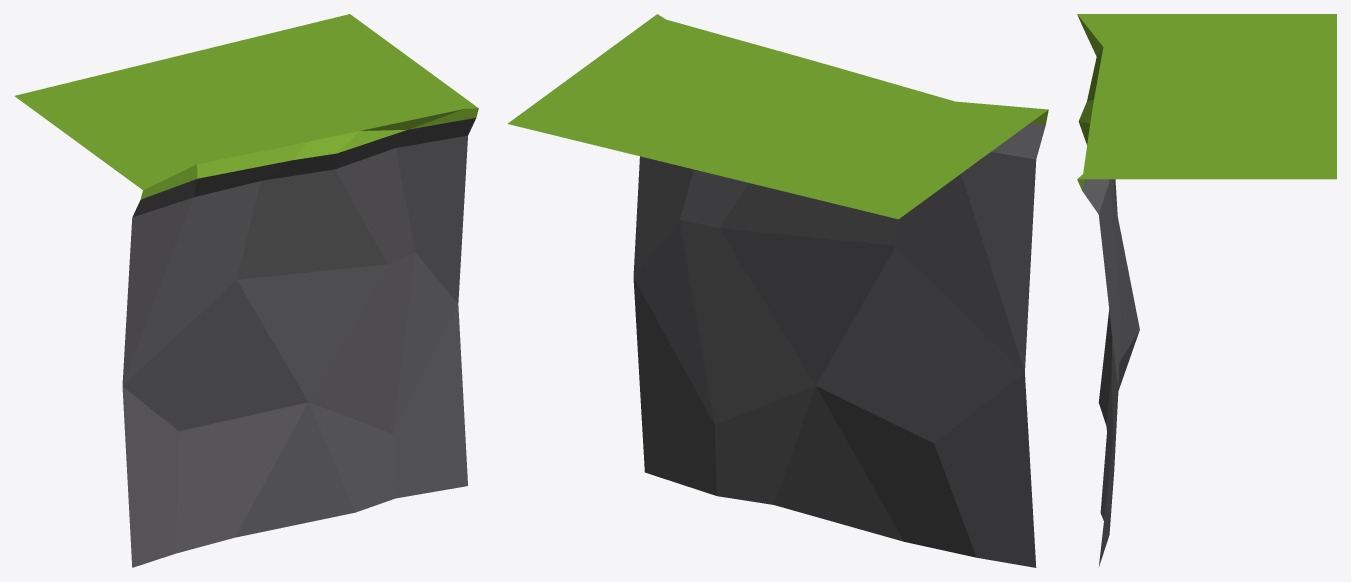
File: mesh_cliff_wall_1m_01.fbx
3 views of the same model, side by side, from view 1: azimuth 30°, elevation 25°; view 2: azimuth 150°, elevation 25°; view 3: azimuth 270°, elevation 25° (orthographic). The views are drawn at different scales.
Visible parts, largest first — view 1: mesh_cliff_wall_1m_01; view 2: mesh_cliff_wall_1m_01; view 3: mesh_cliff_wall_1m_01.
Part boxes in pixels (x1,y1,x2,y2): mesh_cliff_wall_1m_01: [14, 14, 478, 567]; mesh_cliff_wall_1m_01: [507, 14, 1048, 567]; mesh_cliff_wall_1m_01: [1077, 14, 1336, 566].
Bounding box in the file's own units: 200 × 219 × 133.
